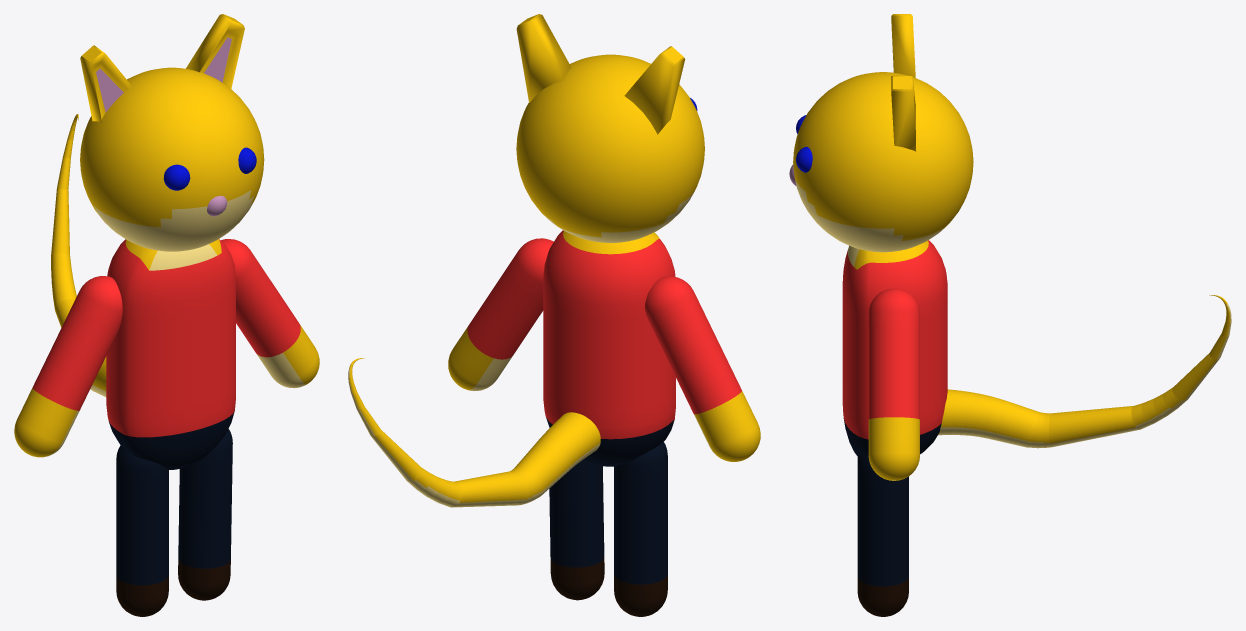
The model's file is rain_base.fbx.
3 views of the same model, side by side, from view 1: azimuth 30°, elevation 25°; view 2: azimuth 150°, elevation 25°; view 3: azimuth 270°, elevation 25° (orthographic). The views are drawn at different scales.
Parts seen in each view (by area): view 1: body, head, larm, lleg, rleg, rarm, Cube, tail_1, eyes; view 2: head, body, larm, tail_1, lleg, rarm, rleg, Cube; view 3: head, body, tail_1, rarm, rleg, Cube.
Boxes of the visible parts, x1,y1,x2,y2 form: body: (106,239,235,469); head: (80,67,264,251); larm: (14,276,122,457); lleg: (116,445,168,616); rleg: (178,429,232,600); rarm: (221,239,319,388); Cube: (80,14,244,122); tail_1: (51,114,106,396); eyes: (163,147,256,190); head: (516,54,704,242); body: (543,230,675,466); larm: (645,276,760,461); tail_1: (348,358,600,507); lleg: (614,442,667,616); rarm: (448,238,553,390); rleg: (549,460,604,600); Cube: (516,14,685,134); head: (793,72,973,252); body: (842,240,947,456); tail_1: (938,295,1231,448); rarm: (868,288,919,480); rleg: (857,455,908,616); Cube: (891,14,916,151).
Bounding box in the file's own units: 262 × 475 × 343.
